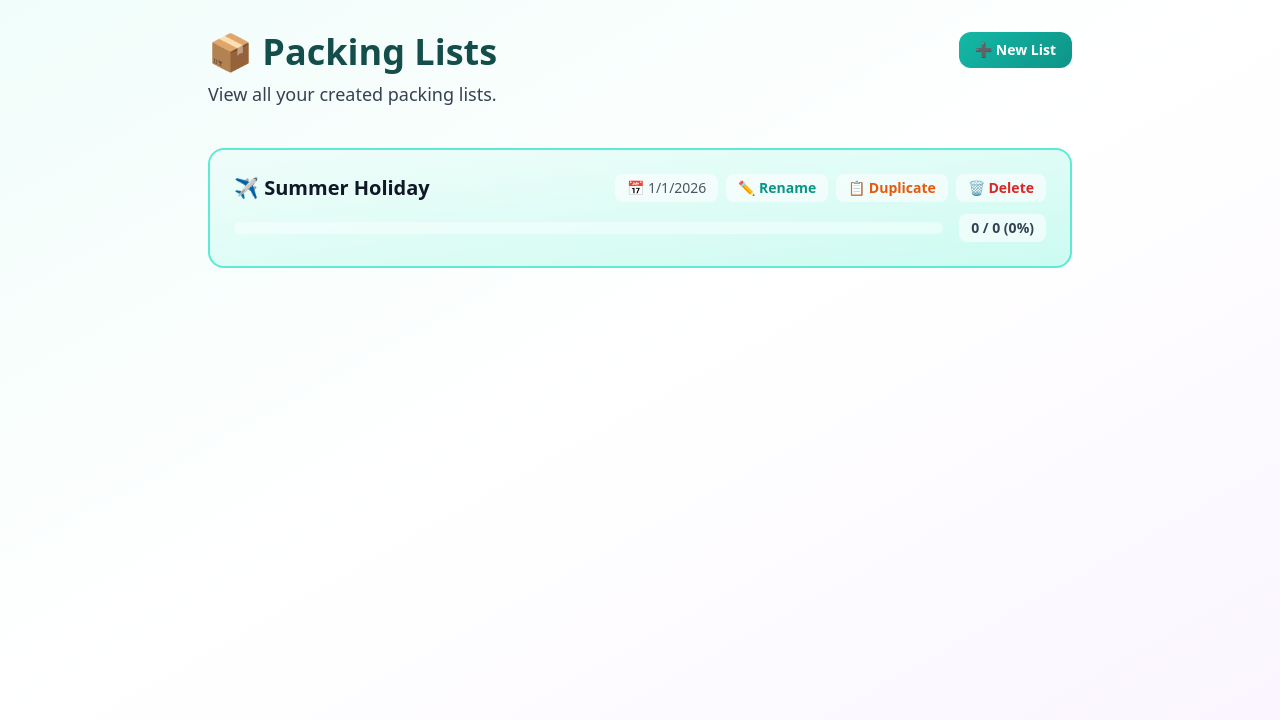
Test: PackingLists delete confirmation › shows a confirmation dialog with the list name when Delete is clicked
Expected: the heading "✈️ Summer Holiday" is shown, [234,174,430,202]
Click the button "🗑️ Delete" at (1001, 188), box [956,174,1046,202]
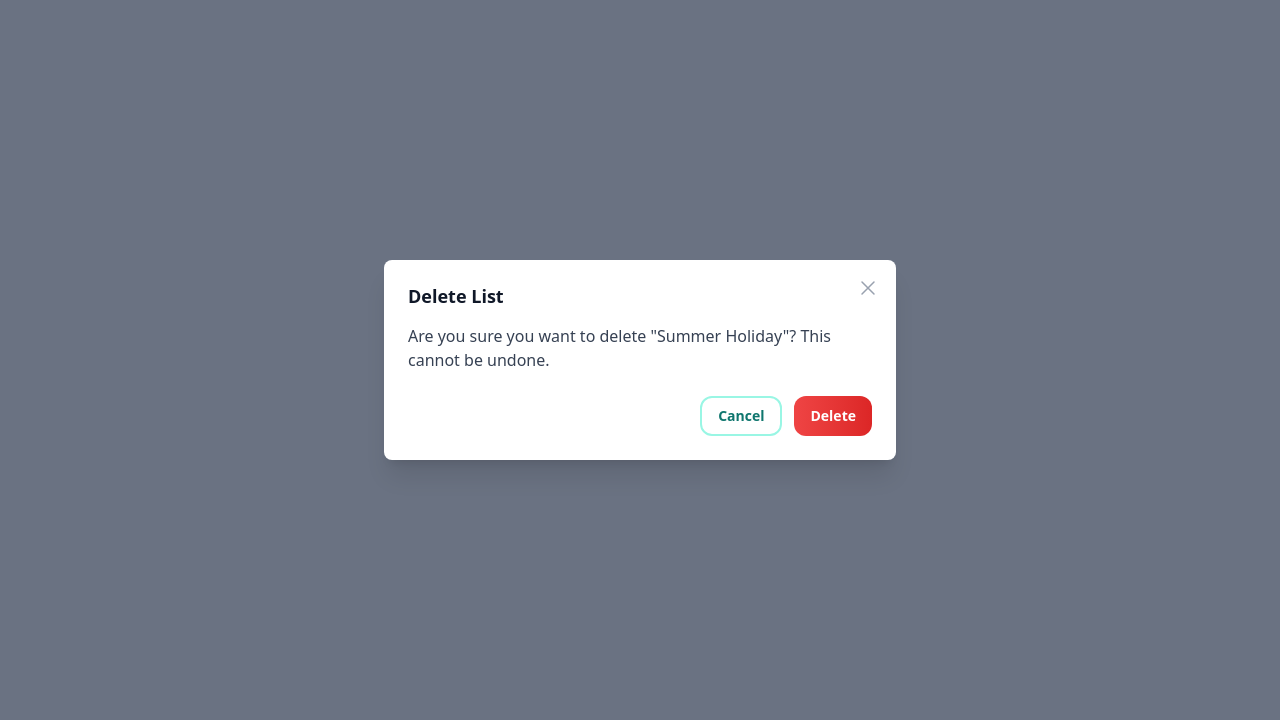
Now the text "Summer Holiday" is shown, box [408,325,831,371]
